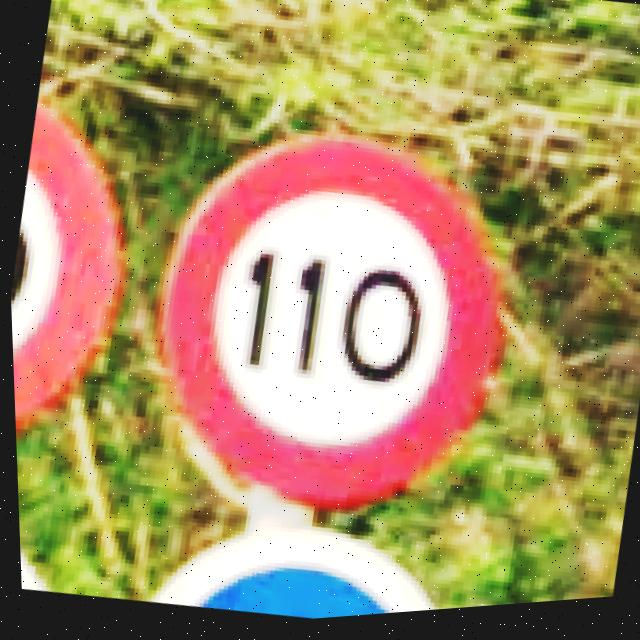max110: (116, 96, 537, 549)
